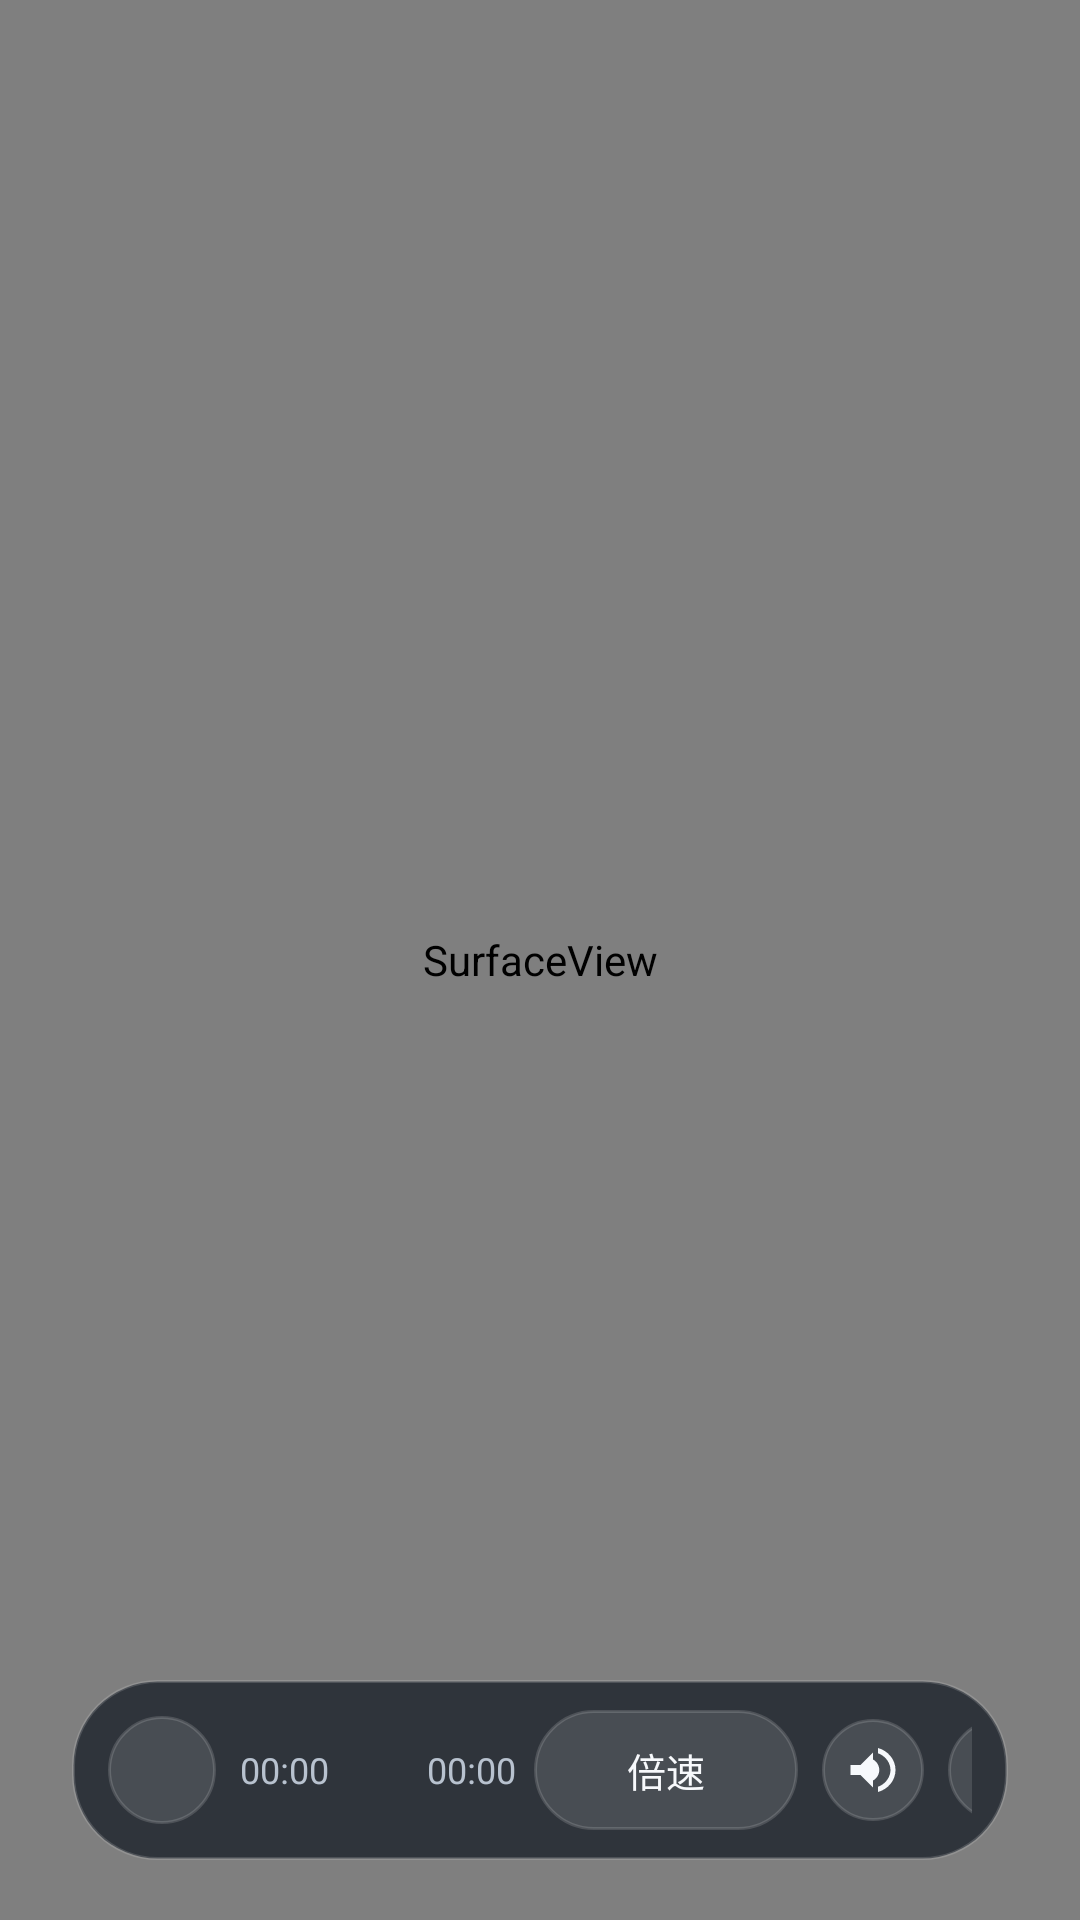

Screen size 1080px x 1920px. Icon name, then its center in pixels as point (x, y):
副屏音量设置: point (873, 1770)
